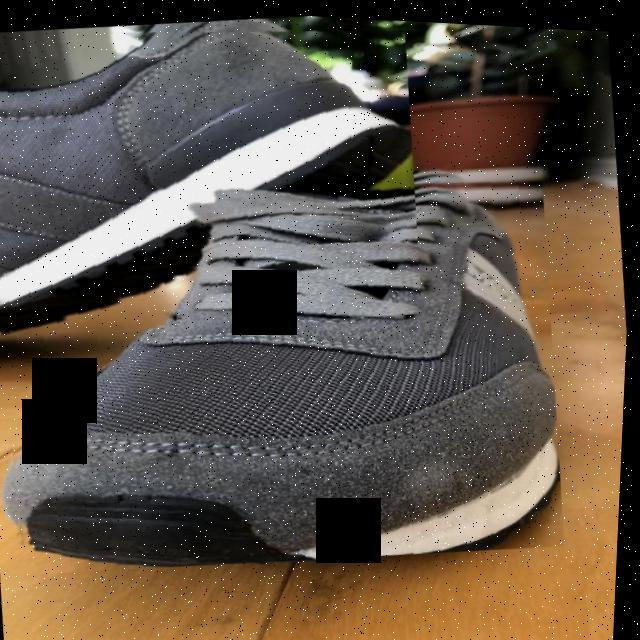shoe: (0, 132, 582, 596), (0, 0, 434, 354)
